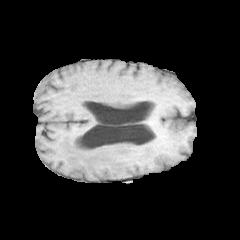glioma: (55, 125, 183, 174)
